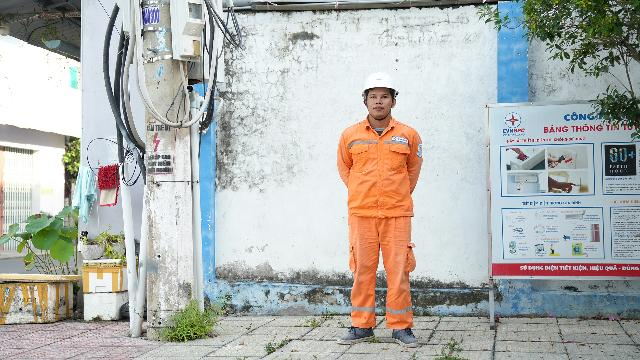helmet: (359, 57, 407, 101)
shoes: (340, 316, 377, 348), (389, 324, 421, 352)
